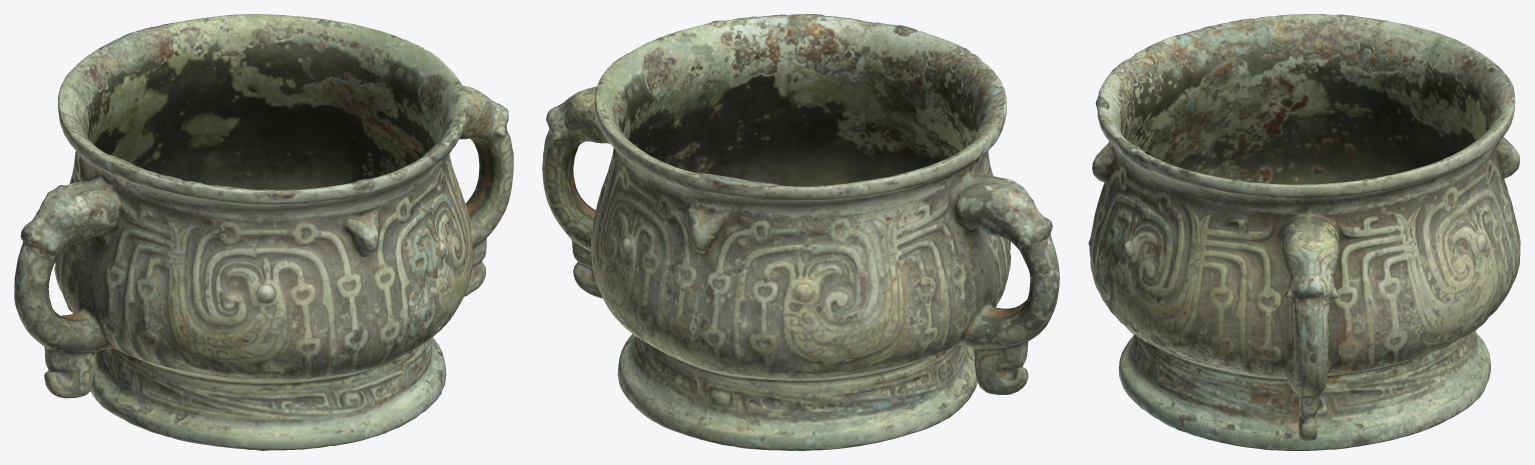
Rendered from gui.glb.
The picture shows the model from 3 angles, left to right: view 1: azimuth 30°, elevation 25°; view 2: azimuth 150°, elevation 25°; view 3: azimuth 270°, elevation 25°; orthographic projection.
Visible parts, largest first — view 1: Object_2; view 2: Object_2; view 3: Object_2.
Boxes of the visible parts, x1,y1,x2,y2 form: Object_2: [14, 14, 513, 450]; Object_2: [542, 14, 1059, 450]; Object_2: [1088, 14, 1520, 450].
Size of the model in its own units: 0.5383 by 0.2832 by 0.399.
1 material, 1 textured.
